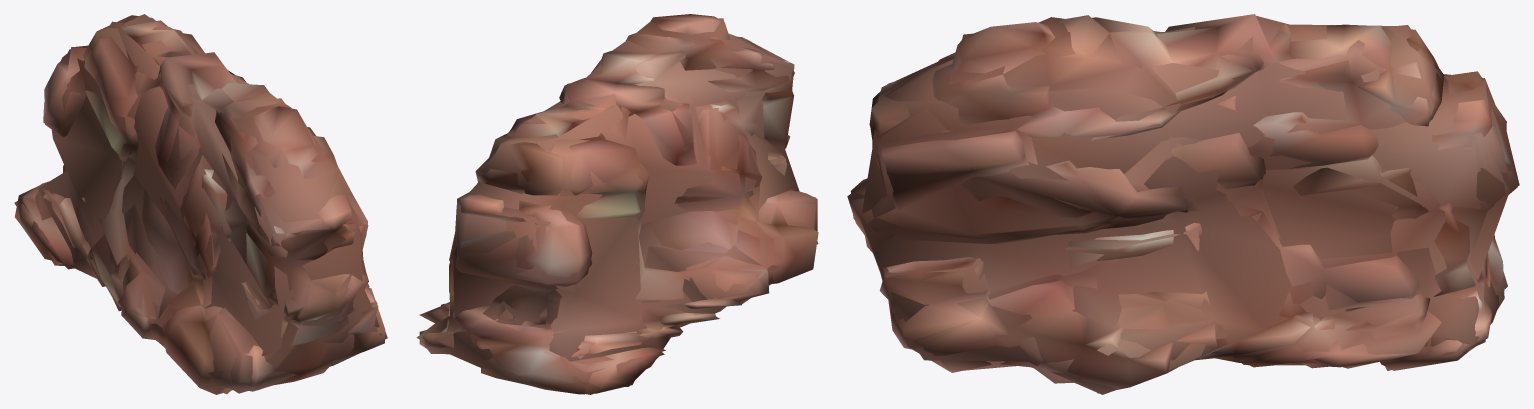
File: cliff_brown_01_2x4x2_b.dae
3 views of the same model, side by side, from view 1: azimuth 30°, elevation 25°; view 2: azimuth 150°, elevation 25°; view 3: azimuth 270°, elevation 25° (orthographic). The views are drawn at different scales.
Visible parts, largest first — view 1: rock200, rock4, rock80; view 2: rock200, rock4, rock80; view 3: rock200, rock4, rock80.
Boxes of the visible parts, <box> form: rock200: <box>18,15,385,394</box>; rock4: <box>14,21,379,393</box>; rock80: <box>15,14,387,394</box>; rock200: <box>419,14,818,394</box>; rock4: <box>416,28,818,386</box>; rock80: <box>418,18,816,394</box>; rock200: <box>850,14,1517,393</box>; rock4: <box>861,17,1509,389</box>; rock80: <box>847,16,1519,394</box>.
Bounding box in the file's own units: 2.39 × 4.6 × 2.44.
